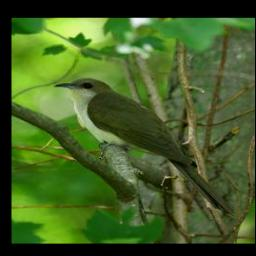Cuckoo: (53, 77, 236, 218)
